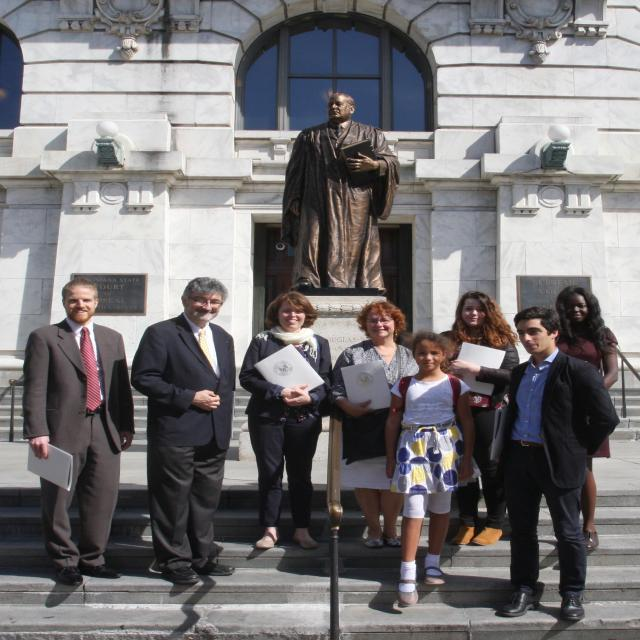body: (487, 304, 623, 623), (19, 275, 138, 589), (126, 274, 240, 586), (382, 330, 478, 609), (244, 532, 591, 608), (278, 91, 402, 302), (238, 289, 336, 551), (327, 299, 421, 550), (437, 288, 520, 546), (554, 284, 621, 550)
